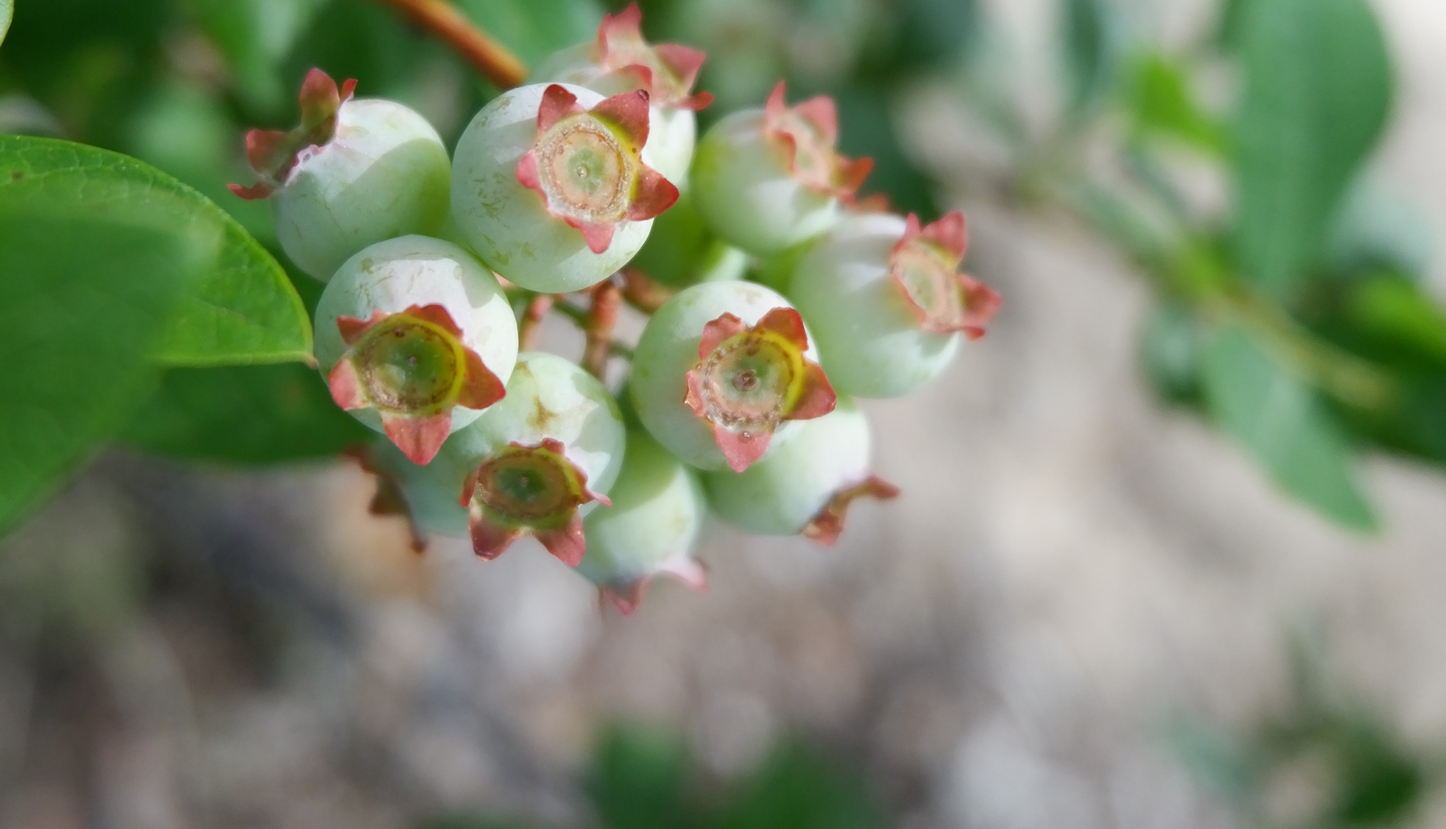Immature: (447, 84, 682, 298), (225, 67, 451, 285), (312, 237, 521, 464), (428, 348, 627, 570), (790, 209, 1005, 404), (627, 280, 834, 476), (520, 5, 720, 194), (690, 76, 875, 258), (708, 396, 899, 547), (576, 413, 712, 620), (340, 435, 475, 555), (633, 194, 744, 292)
